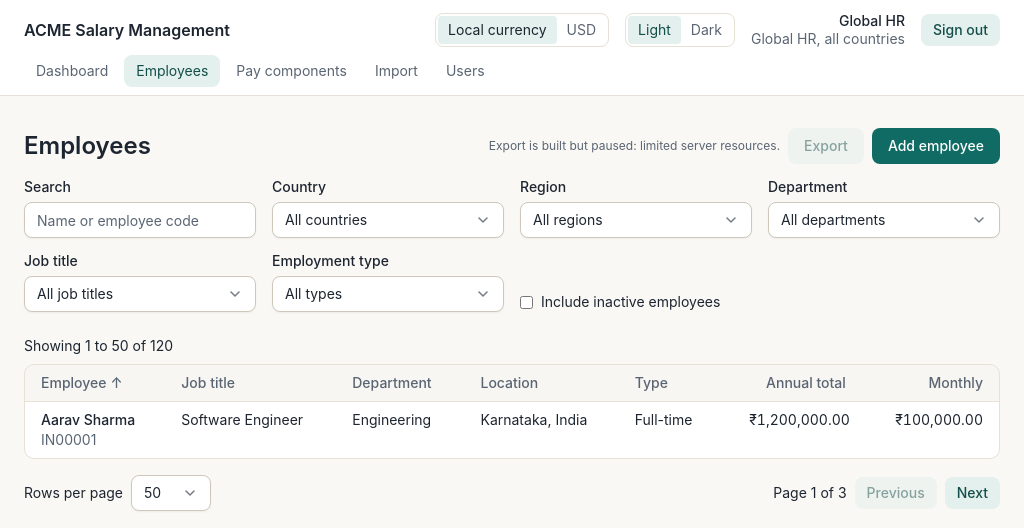
Scenario: EmployeesPage › moves between pages
Click the button with aria-label "Next page" at [972, 493], box top-left (945, 477), bottom-right (1000, 509)
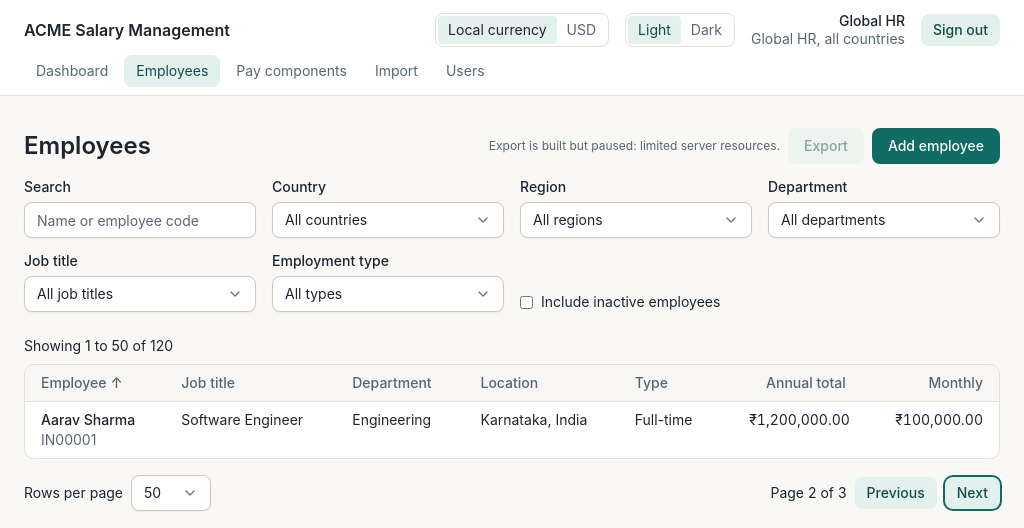
expect the button with aria-label "Previous page" is enabled: met, box top-left (855, 477), bottom-right (937, 509)
